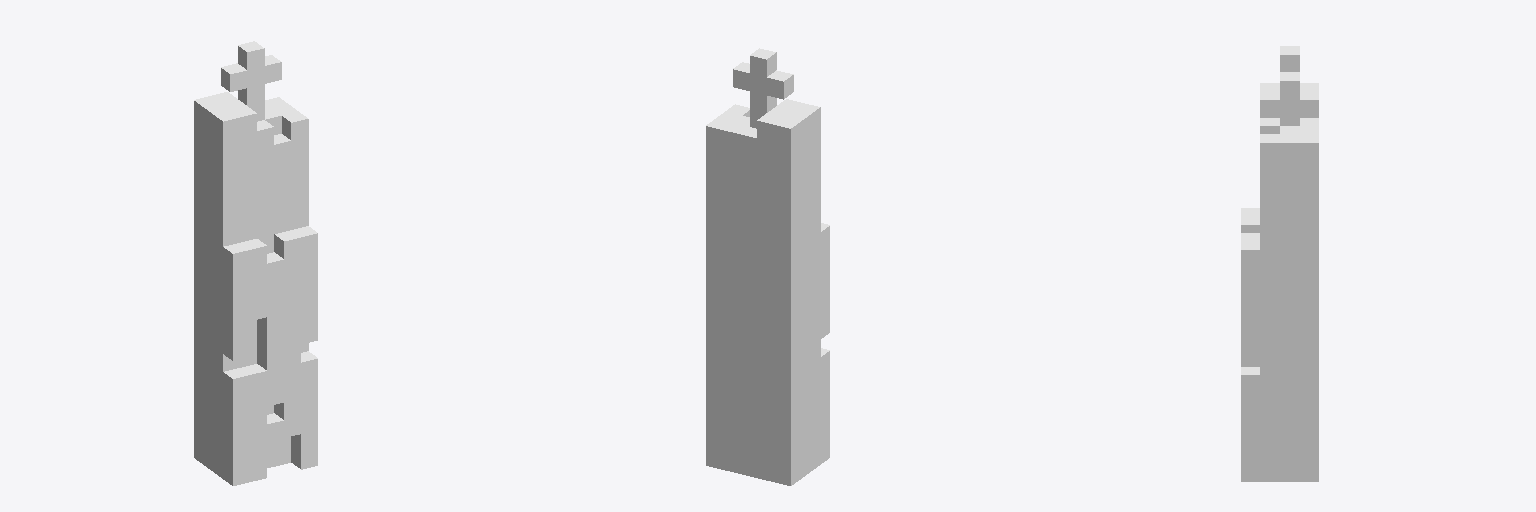
File: SM-8-Pillar.obj
The picture shows the model from 3 angles: view 1: azimuth 30°, elevation 25°; view 2: azimuth 150°, elevation 25°; view 3: azimuth 270°, elevation 25°; orthographic projection.
Visible parts, largest first — view 1: Pillar; view 2: Pillar; view 3: Pillar.
Part boxes in pixels (bbox=[...]): Pillar: bbox=[194, 41, 317, 485]; Pillar: bbox=[706, 48, 829, 485]; Pillar: bbox=[1241, 46, 1318, 481].
Bounding box in the file's own units: 0.5 × 2.3 × 0.4.